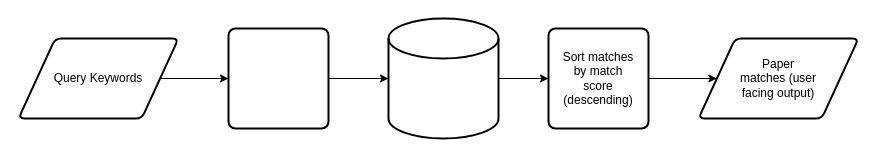
Image size: 876x156. Some labels were removed from this diagram. Here are the shapes that lost their labels. From the top down, the centre of each, then its label:
At pixel 278 78: "Find top n papers that match query keywords".
At pixel 443 78: "Paper keyword pairs".
